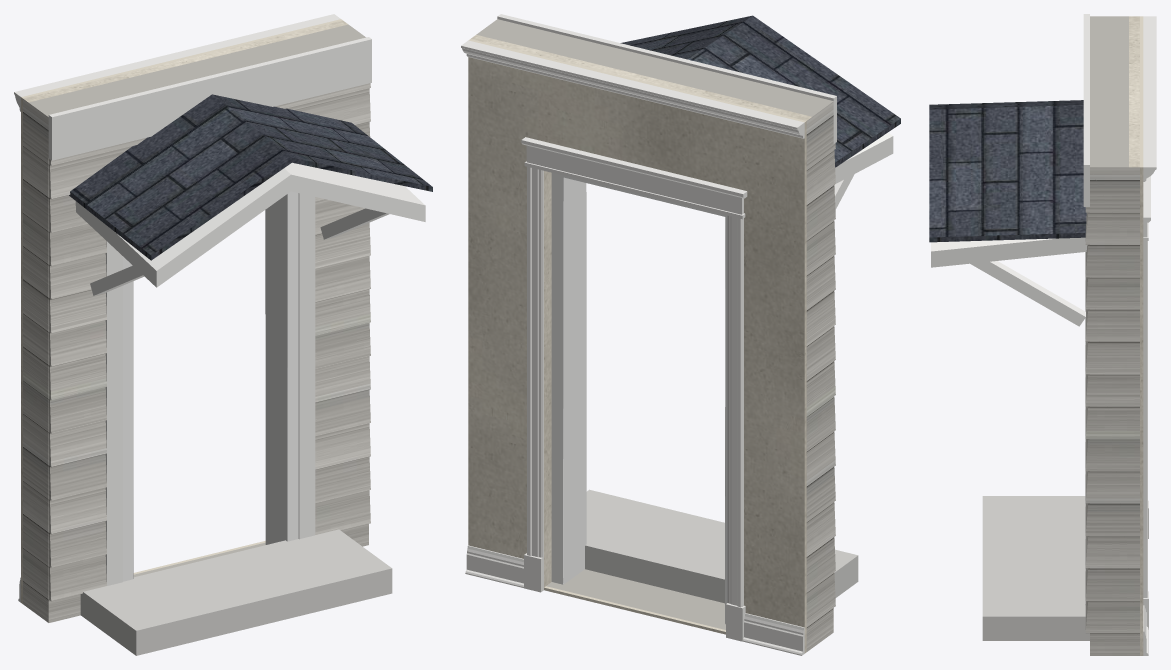
File: wing_wall_door_hood.glb
3 renders of one model, left to right at view 1: azimuth 30°, elevation 25°; view 2: azimuth 150°, elevation 25°; view 3: azimuth 270°, elevation 25°, orthographic. The views are drawn at different scales.
Visible parts, largest first — view 1: wing_wall_door_hood_siding, wing_wall_door_hood_trim, wing_wall_door_hood_shingle, wing_wall_door_hood_concrete, wing_wall_door_hood_frame, wing_wall_door_hood_plaster, molduras; view 2: wing_wall_door_hood_plaster, molduras, wing_wall_door_hood_siding, wing_wall_door_hood_frame, wing_wall_door_hood_concrete, wing_wall_door_hood_shingle, wing_wall_door_hood_trim; view 3: wing_wall_door_hood_siding, wing_wall_door_hood_shingle, wing_wall_door_hood_concrete, wing_wall_door_hood_trim, molduras, wing_wall_door_hood_plaster.
Part boxes in pixels (x1,y1,x2,y2): wing_wall_door_hood_siding: [23, 24, 370, 622]; wing_wall_door_hood_trim: [48, 37, 425, 585]; wing_wall_door_hood_shingle: [69, 94, 432, 260]; wing_wall_door_hood_concrete: [80, 529, 392, 655]; wing_wall_door_hood_frame: [123, 191, 298, 581]; wing_wall_door_hood_plaster: [21, 19, 348, 603]; molduras: [14, 14, 340, 602]; wing_wall_door_hood_plaster: [468, 35, 811, 653]; molduras: [461, 40, 804, 655]; wing_wall_door_hood_siding: [476, 19, 835, 651]; wing_wall_door_hood_frame: [551, 173, 727, 624]; wing_wall_door_hood_concrete: [585, 489, 858, 603]; wing_wall_door_hood_shingle: [620, 15, 900, 167]; wing_wall_door_hood_trim: [497, 14, 893, 209]; wing_wall_door_hood_siding: [1085, 16, 1139, 655]; wing_wall_door_hood_shingle: [929, 100, 1086, 242]; wing_wall_door_hood_concrete: [982, 496, 1089, 640]; wing_wall_door_hood_trim: [931, 14, 1089, 604]; molduras: [1143, 16, 1156, 655]; wing_wall_door_hood_plaster: [1129, 16, 1143, 655].
Bounding box in the file's own units: 2 × 3.04 × 1.27.
Materials: 6 (3 with a texture image).
